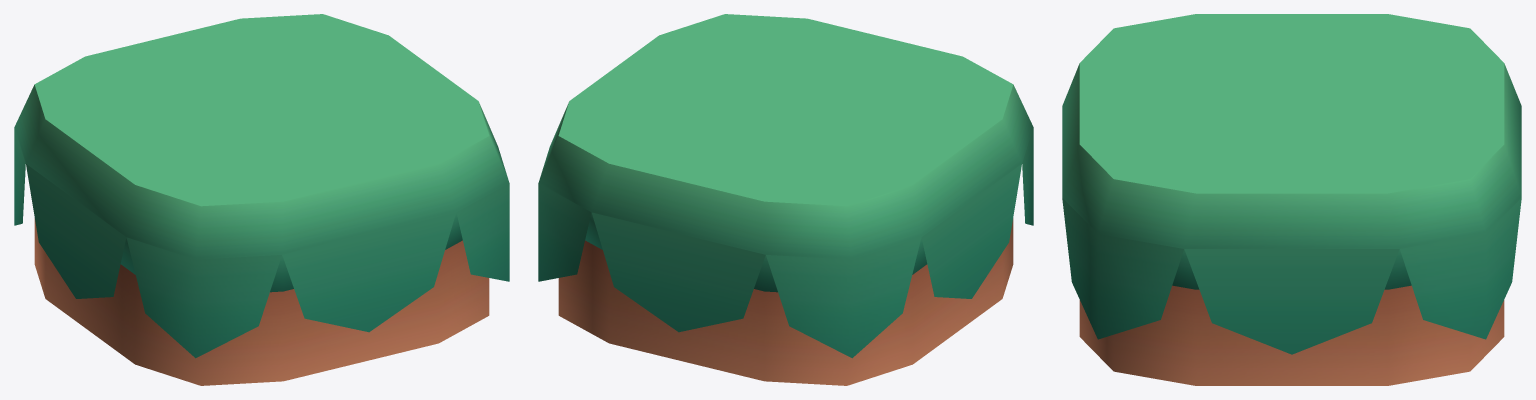
The model's file is kenney-platformer-block-grass-overhang-low.glb.
3 views of the same model, side by side, from view 1: azimuth 30°, elevation 25°; view 2: azimuth 150°, elevation 25°; view 3: azimuth 270°, elevation 25° (orthographic). The views are drawn at different scales.
Visible parts, largest first — view 1: block-grass-overhang-low; view 2: block-grass-overhang-low; view 3: block-grass-overhang-low.
Boxes of the visible parts, <box> form: block-grass-overhang-low: <box>14,14,509,385</box>; block-grass-overhang-low: <box>538,14,1033,385</box>; block-grass-overhang-low: <box>1062,14,1521,385</box>.
Bounding box in the file's own units: 1.08 × 0.5 × 1.08.
1 material, 1 textured.
